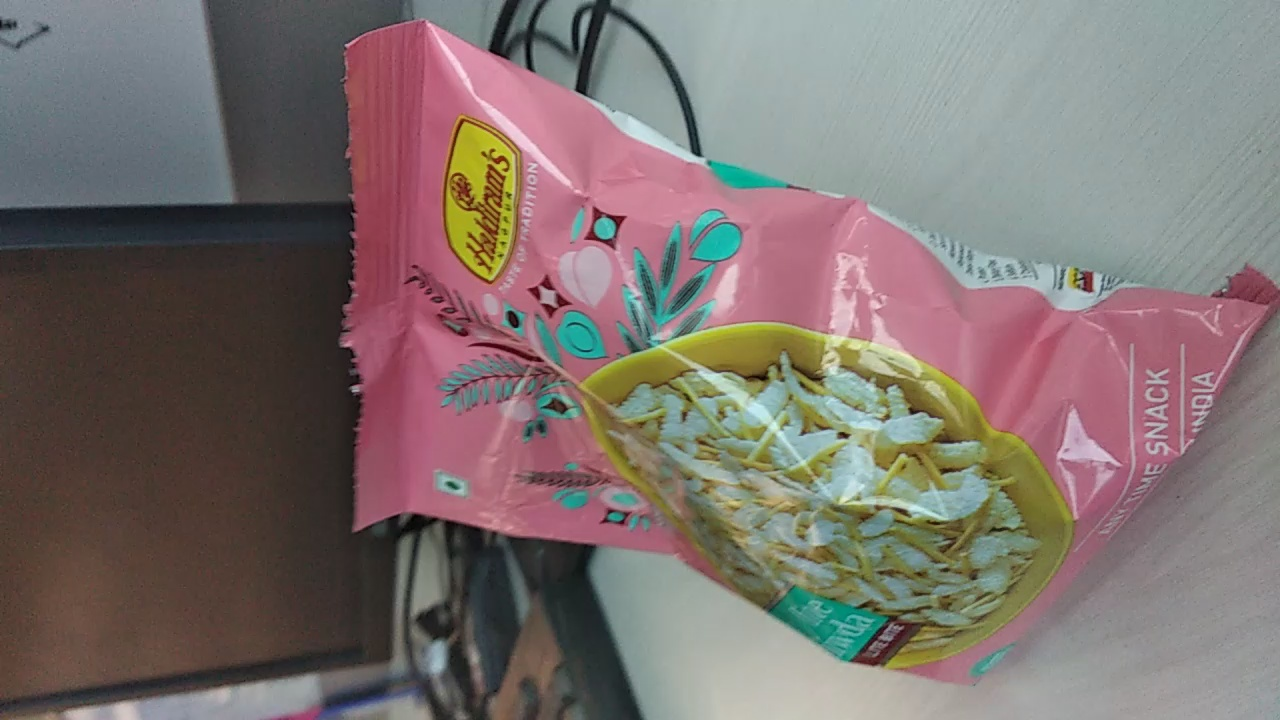liteSnack: (324, 22, 1276, 693)
